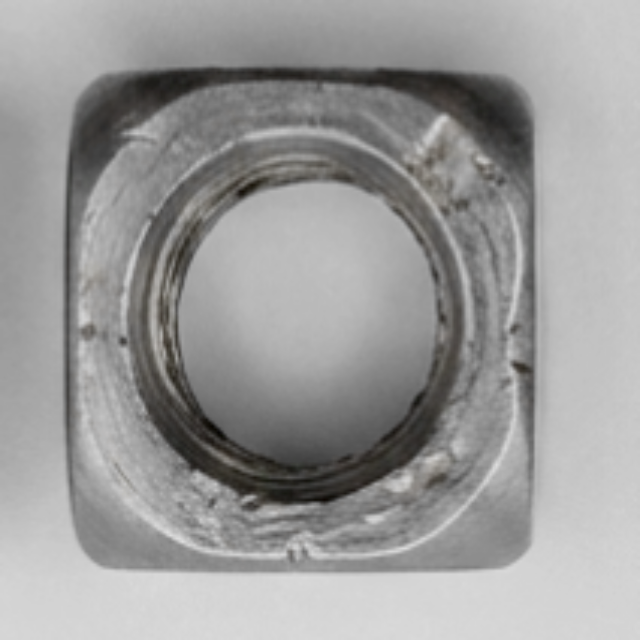defect: (395, 103, 522, 229), (215, 478, 330, 567), (491, 300, 545, 393)
